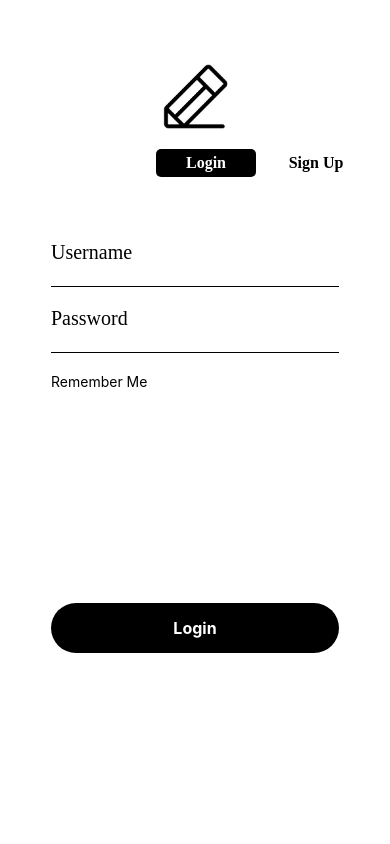
LoginForm Integration Test › failed login shows modal
Type "testuser" into the field with test id "username-input" at (195,278), box x1=51 y1=269 x2=339 y2=287
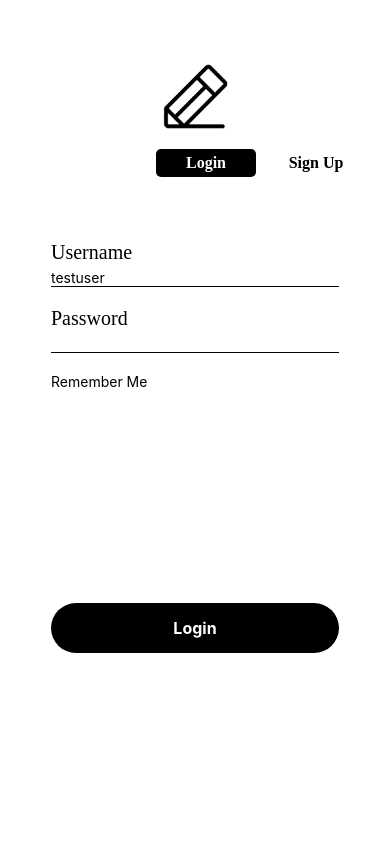
Type "wrongpassword" into the password field with test id "password-input" at (195,344), box x1=51 y1=335 x2=339 y2=353
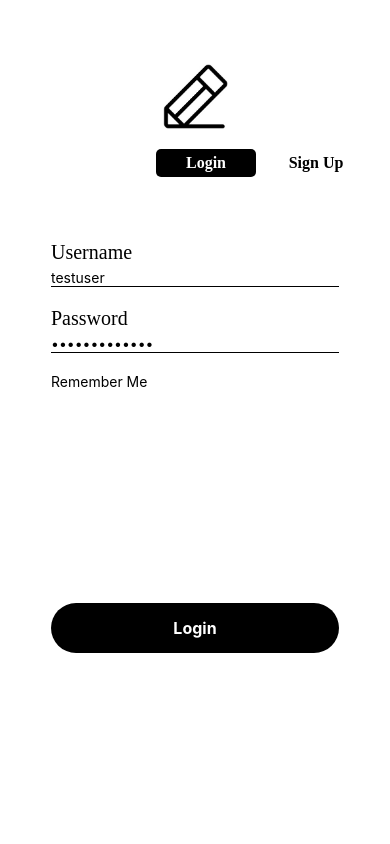
Click the element with test id "submit-button" at (195,628), box x1=51 y1=603 x2=339 y2=653
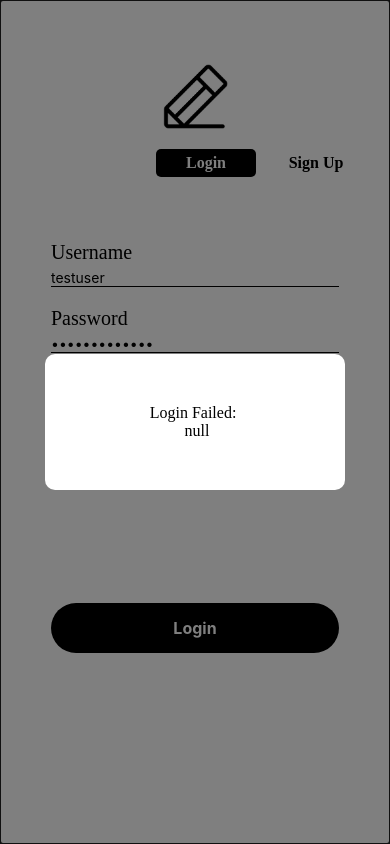
Check: the text "Login Failed: null" is shown, box x1=150 y1=404 x2=240 y2=440
